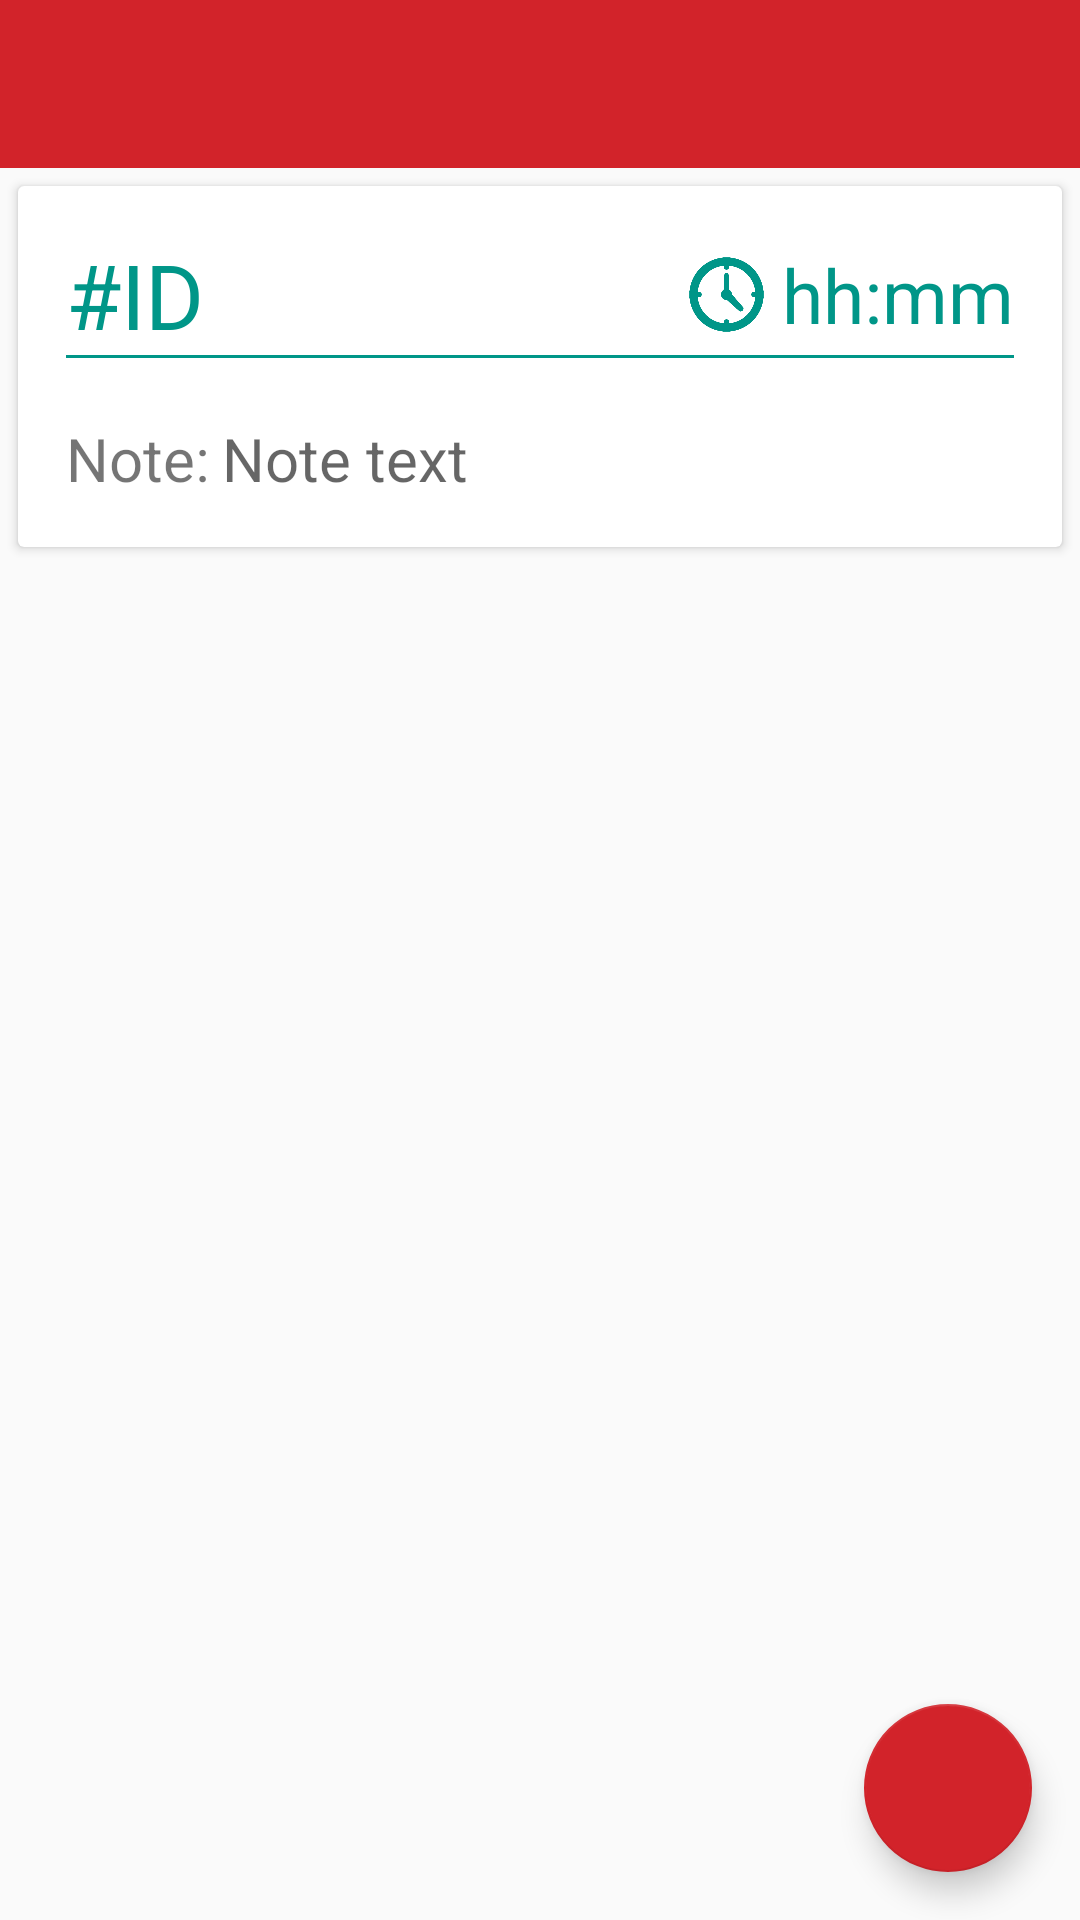

Icon click points for this 1080 × 1920 phone screenshot, format [x,y]:
clock: [726,294]
